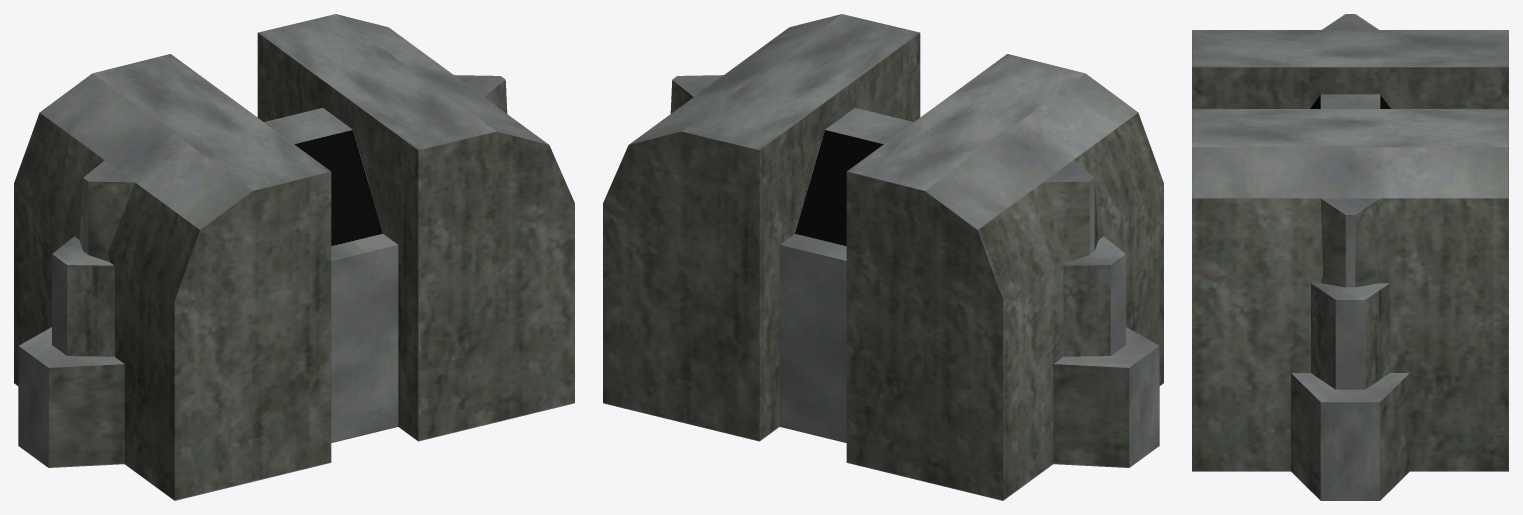
File: thm_corl_imprv_building_s02_r0_mesh_l3.fbx
3 views of the same model, side by side, from view 1: azimuth 30°, elevation 25°; view 2: azimuth 150°, elevation 25°; view 3: azimuth 270°, elevation 25° (orthographic).
Parts seen in each view (by area): view 1: mesh_node; view 2: mesh_node; view 3: mesh_node.
Boxes of the visible parts, left/top/right/bottom form: mesh_node: left=14, top=14, right=574, bottom=500; mesh_node: left=603, top=14, right=1163, bottom=500; mesh_node: left=1192, top=14, right=1508, bottom=500.
Size of the model in its own units: 60 by 32 by 32.
Materials: 1 (1 with a texture image).
